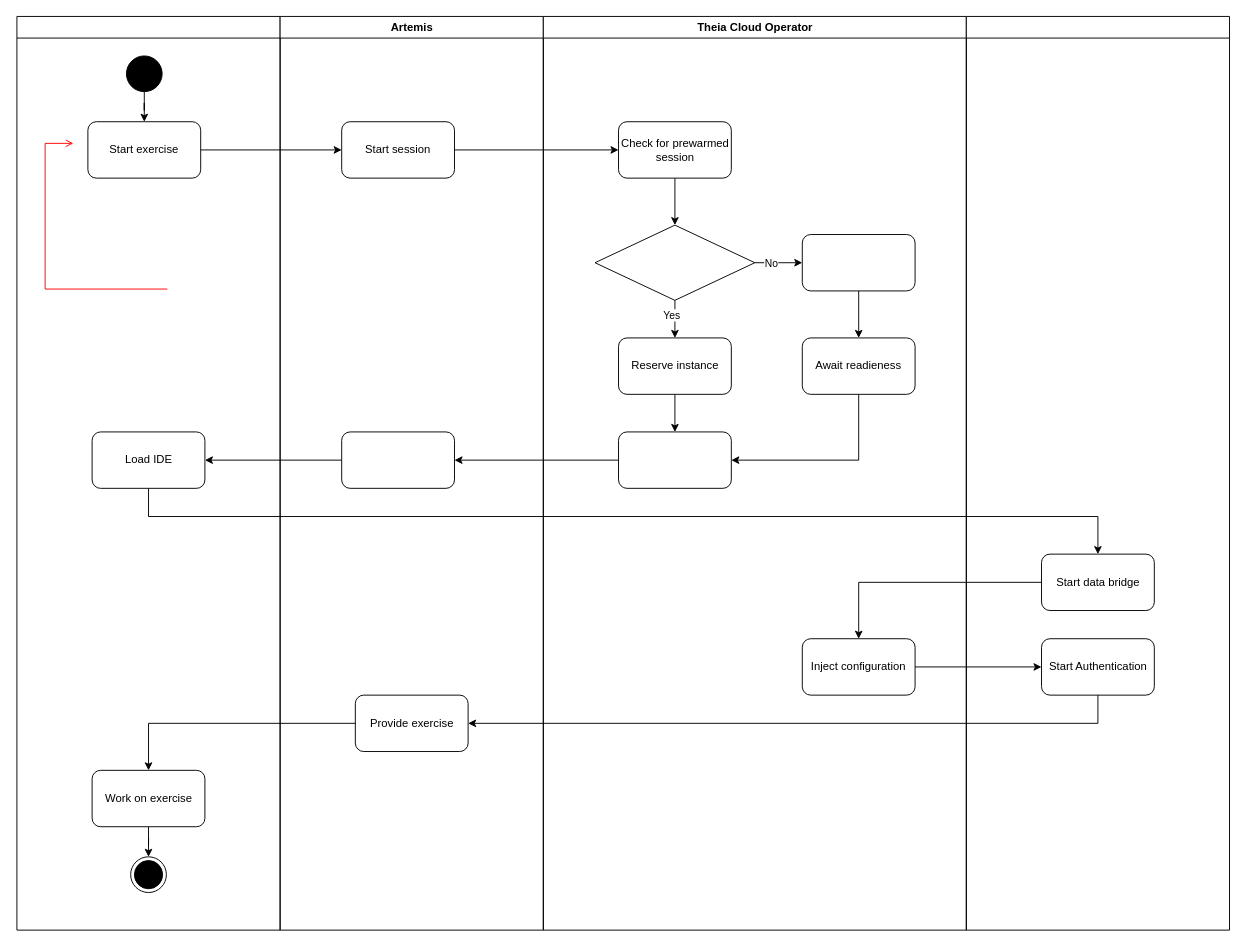
The diagram is 1246 pixels wide and 947 high, and some of its shapes have lost their labels. Here are the shapes that lost their labels. From the top down, the box of each, then its label:
(594, 224, 755, 300): Available
(801, 234, 915, 291): Provision resources
(16, 16, 280, 930): Student
(341, 431, 454, 488): Publish Session URL
(618, 431, 731, 488): Instance ready
(965, 16, 1230, 930): IDE Container
